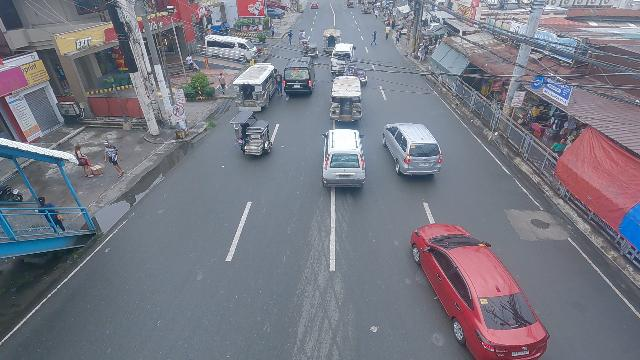car: (383, 123, 443, 174), (323, 129, 366, 187), (310, 1, 319, 9)
jeepney: (411, 224, 551, 360), (232, 62, 281, 111), (329, 73, 364, 121), (322, 28, 342, 55)
van: (283, 56, 315, 98), (331, 42, 356, 76)
